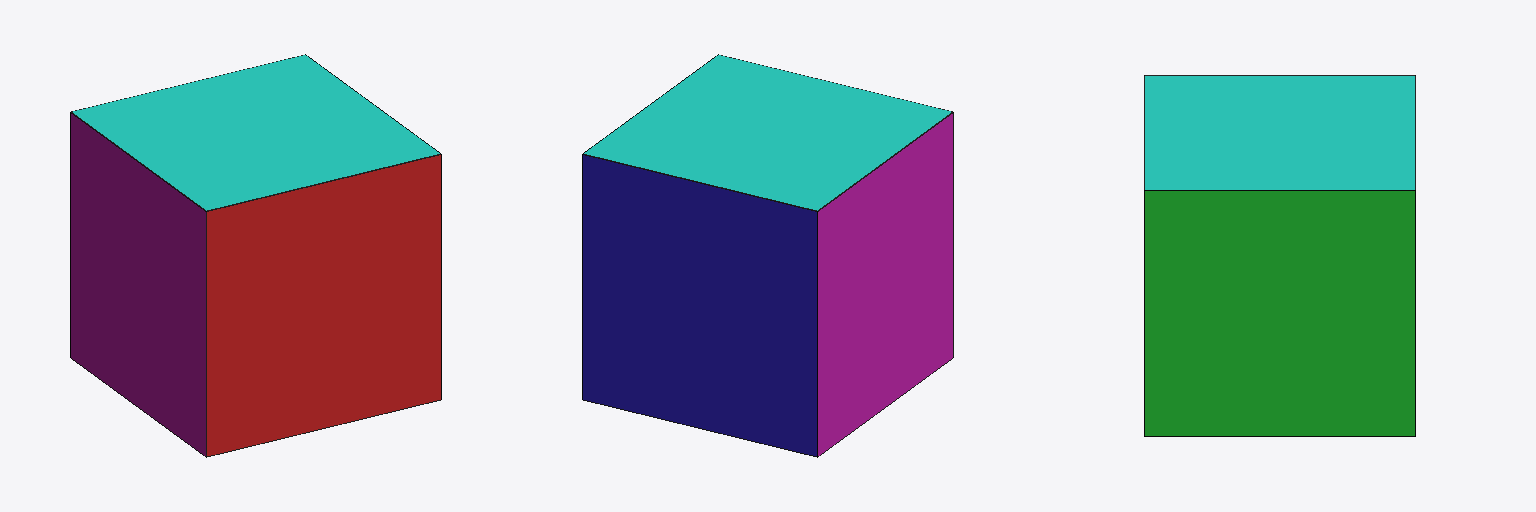
3 views of the same model, side by side, from view 1: azimuth 30°, elevation 25°; view 2: azimuth 150°, elevation 25°; view 3: azimuth 270°, elevation 25° (orthographic).
Visible parts, largest first — view 1: Cube; view 2: Cube; view 3: Cube.
Part boxes in pixels (x1,y1,x2,y2): Cube: (70, 54, 441, 457); Cube: (582, 54, 953, 457); Cube: (1144, 75, 1415, 436).
Bounding box in the file's own units: 2 × 2 × 2.
1 materials, 1 textured.